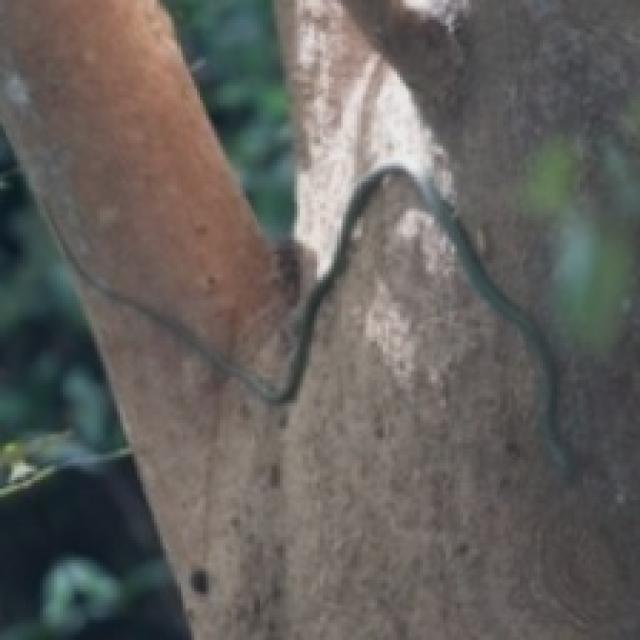paradise tree snake: (63, 163, 574, 480), (229, 163, 574, 480)
